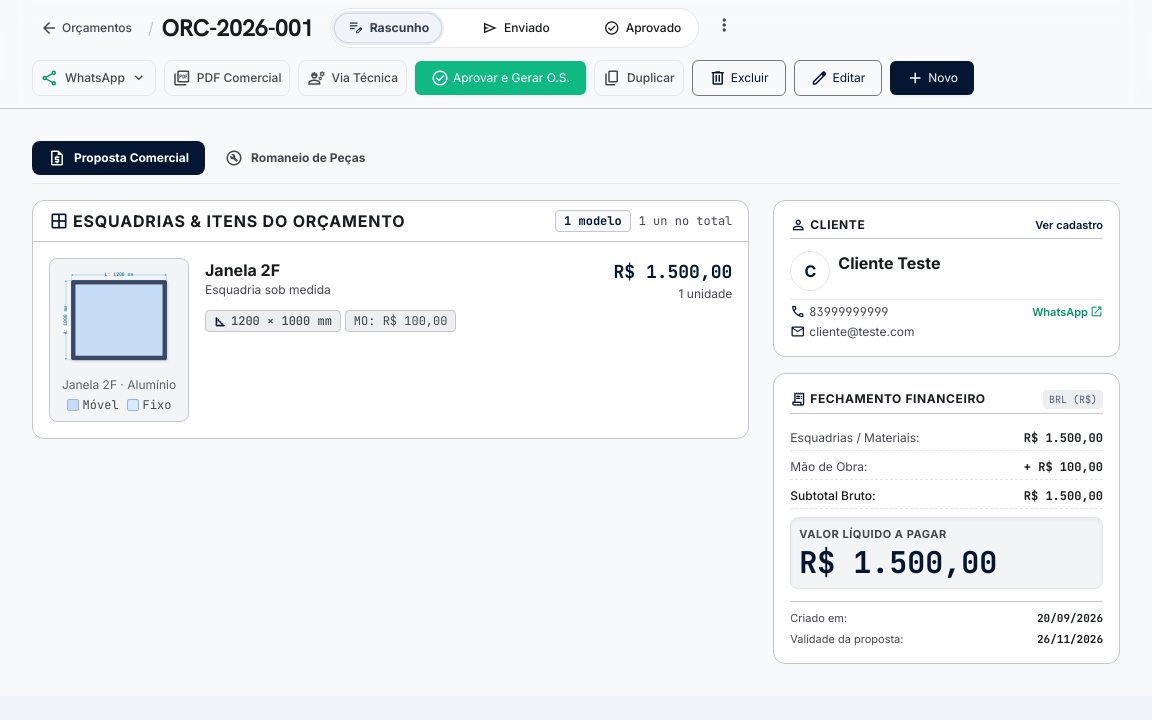
BudgetDetailPage — [US-11.5] Botão Emitir Via Técnica (Oficina) › deve abrir o modal de aprovação ao clicar no botão "Aprovar e Gerar Pedido"
Click the button with test id "btn-approve-budget" at [500, 78], box x1=415 y1=61 x2=586 y2=95
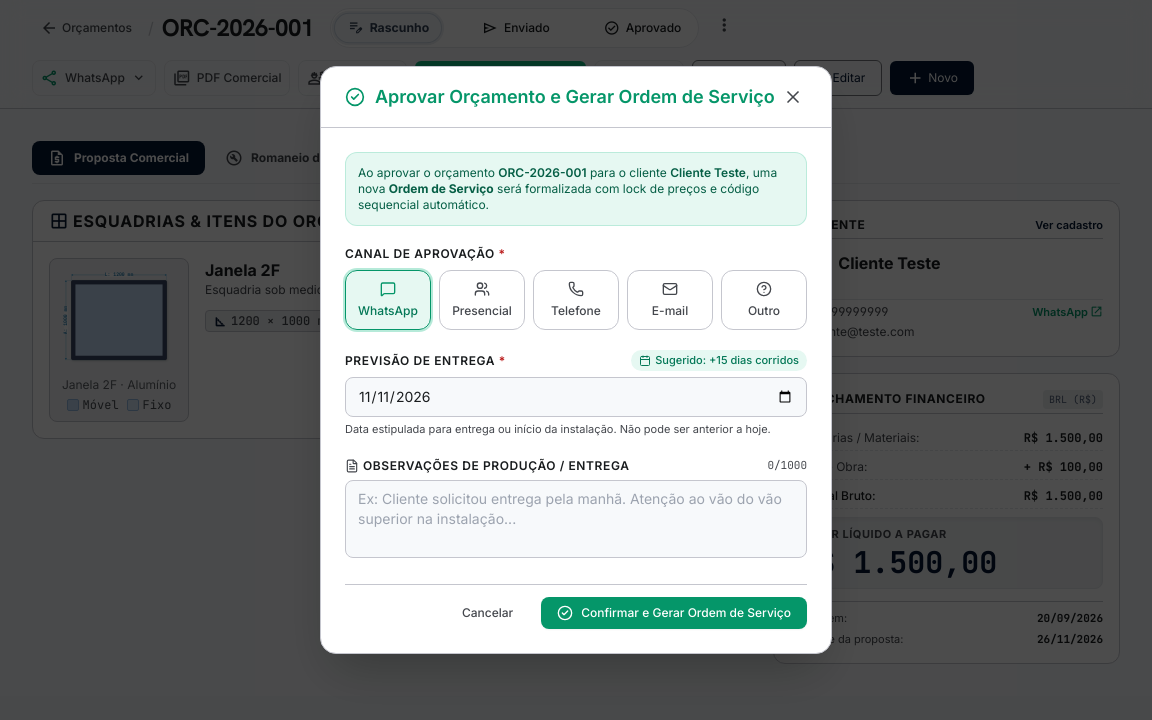
Expected: the element with test id "order-approval-modal" is shown
Expected: the text "Aprovar Orçamento e Gerar Ordem de Serviço" is shown, x1=375 y1=83 x2=775 y2=111
